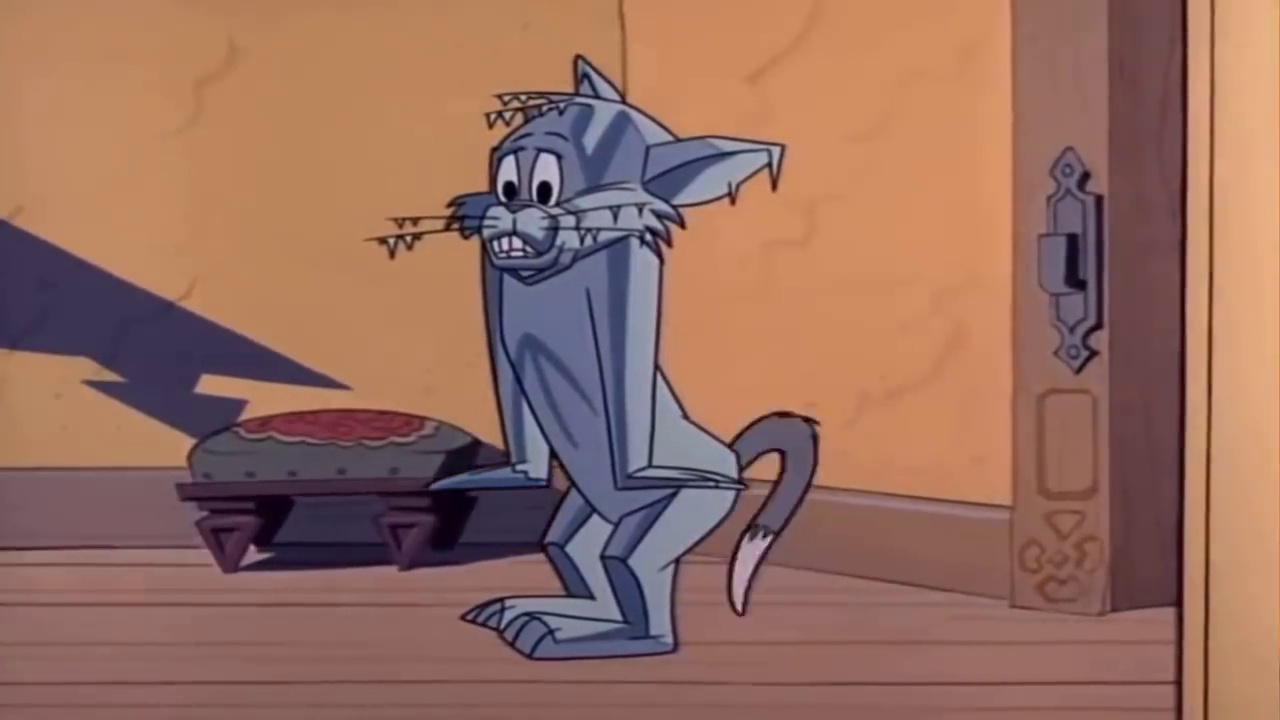face: (479, 125, 591, 280)
